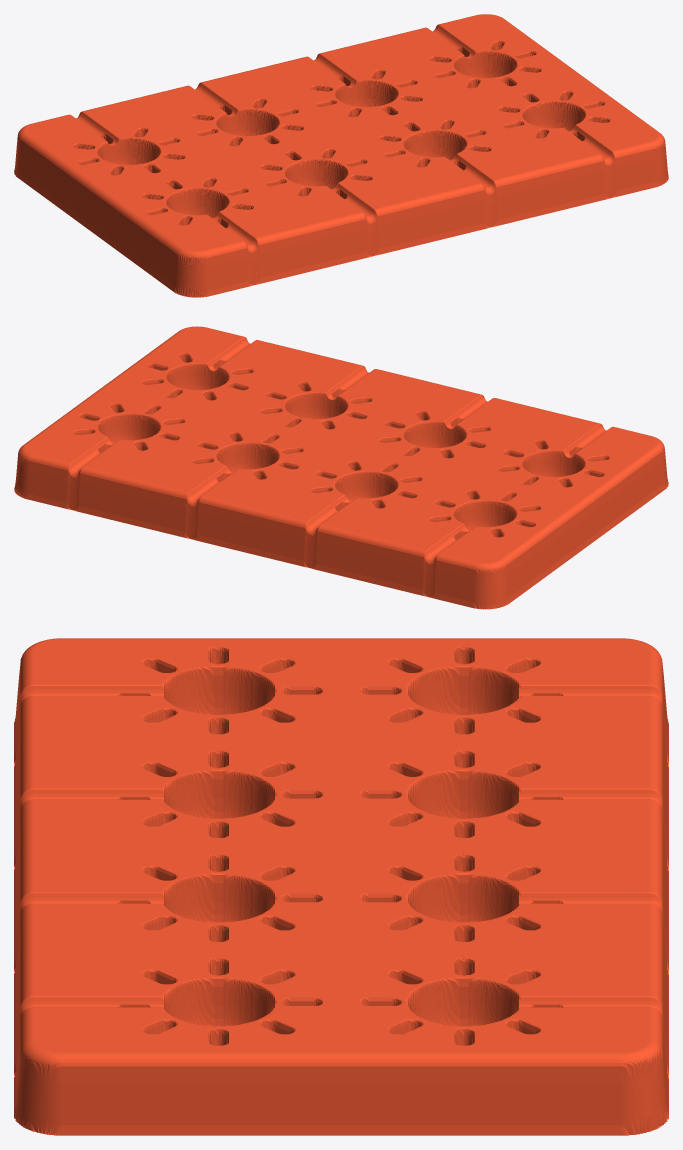
File: mold.glb
3 views of the same model, one above another, from view 1: azimuth 30°, elevation 25°; view 2: azimuth 150°, elevation 25°; view 3: azimuth 270°, elevation 25° (orthographic). The views are drawn at different scales.
Visible parts, largest first — view 1: geometry_0; view 2: geometry_0; view 3: geometry_0.
Part boxes in pixels (bbox=[...]): geometry_0: bbox=[14, 14, 668, 297]; geometry_0: bbox=[14, 326, 668, 609]; geometry_0: bbox=[14, 638, 668, 1135].
Size of the model in its own units: 0.1907 by 0.0155 by 0.1229.
